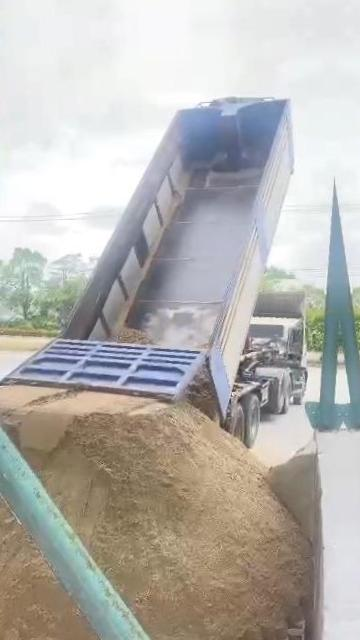sand: (0, 387, 308, 640), (0, 468, 118, 640), (269, 443, 320, 542), (185, 365, 216, 419), (112, 328, 152, 343)
